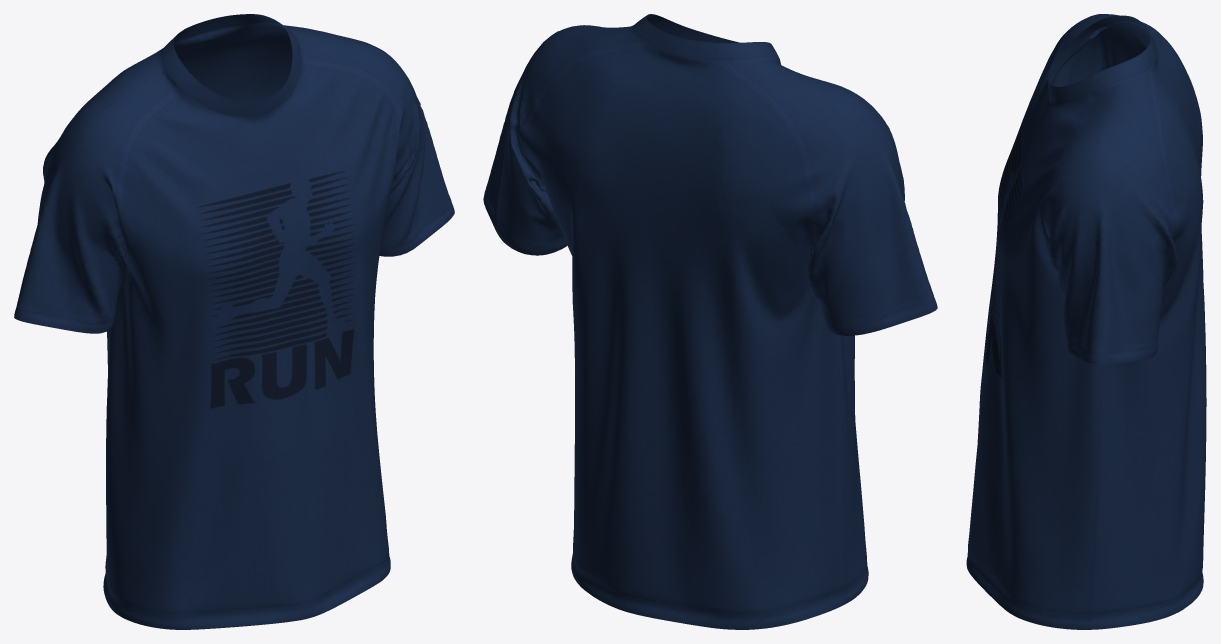
File: shirt-navy.glb
3 views of the same model, side by side, from view 1: azimuth 30°, elevation 25°; view 2: azimuth 150°, elevation 25°; view 3: azimuth 270°, elevation 25° (orthographic). The views are drawn at different scales.
Parts seen in each view (by area): view 1: RAGLAN%20TEE%2001_(OPTIMIZED).obj_0; view 2: RAGLAN%20TEE%2001_(OPTIMIZED).obj_0; view 3: RAGLAN%20TEE%2001_(OPTIMIZED).obj_0.
Boxes of the visible parts, left/top/right/bottom form: RAGLAN%20TEE%2001_(OPTIMIZED).obj_0: left=14, top=14, right=454, bottom=629; RAGLAN%20TEE%2001_(OPTIMIZED).obj_0: left=483, top=14, right=937, bottom=629; RAGLAN%20TEE%2001_(OPTIMIZED).obj_0: left=966, top=14, right=1206, bottom=629.
Size of the model in its own units: 23.66 by 28.07 by 11.39.
1 material, 1 textured.
